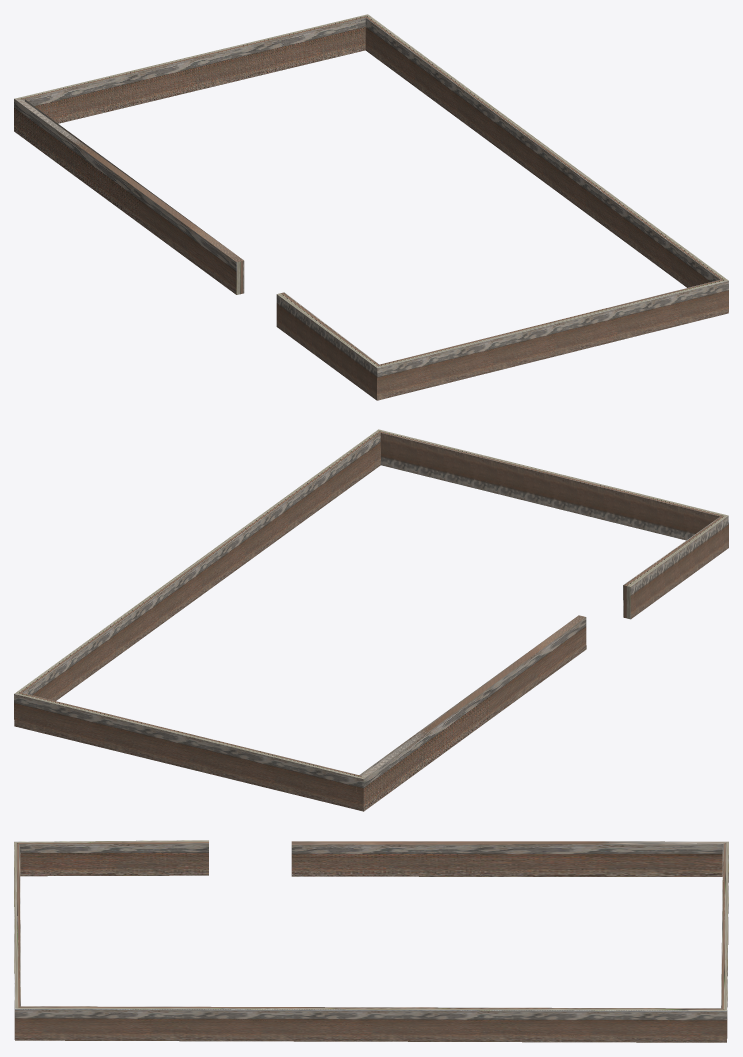
File: wall mesh (1) (1).fbx
3 views of the same model, one above another, from view 1: azimuth 30°, elevation 25°; view 2: azimuth 150°, elevation 25°; view 3: azimuth 270°, elevation 25° (orthographic). The views are drawn at different scales.
Parts seen in each view (by area): view 1: Object001; view 2: Object001; view 3: Object001.
Part boxes in pixels (x1,y1,x2,y2): Object001: (14, 14, 728, 400); Object001: (14, 429, 728, 811); Object001: (14, 840, 728, 1042).
Size of the model in its own units: 2556 by 233 by 4542.
